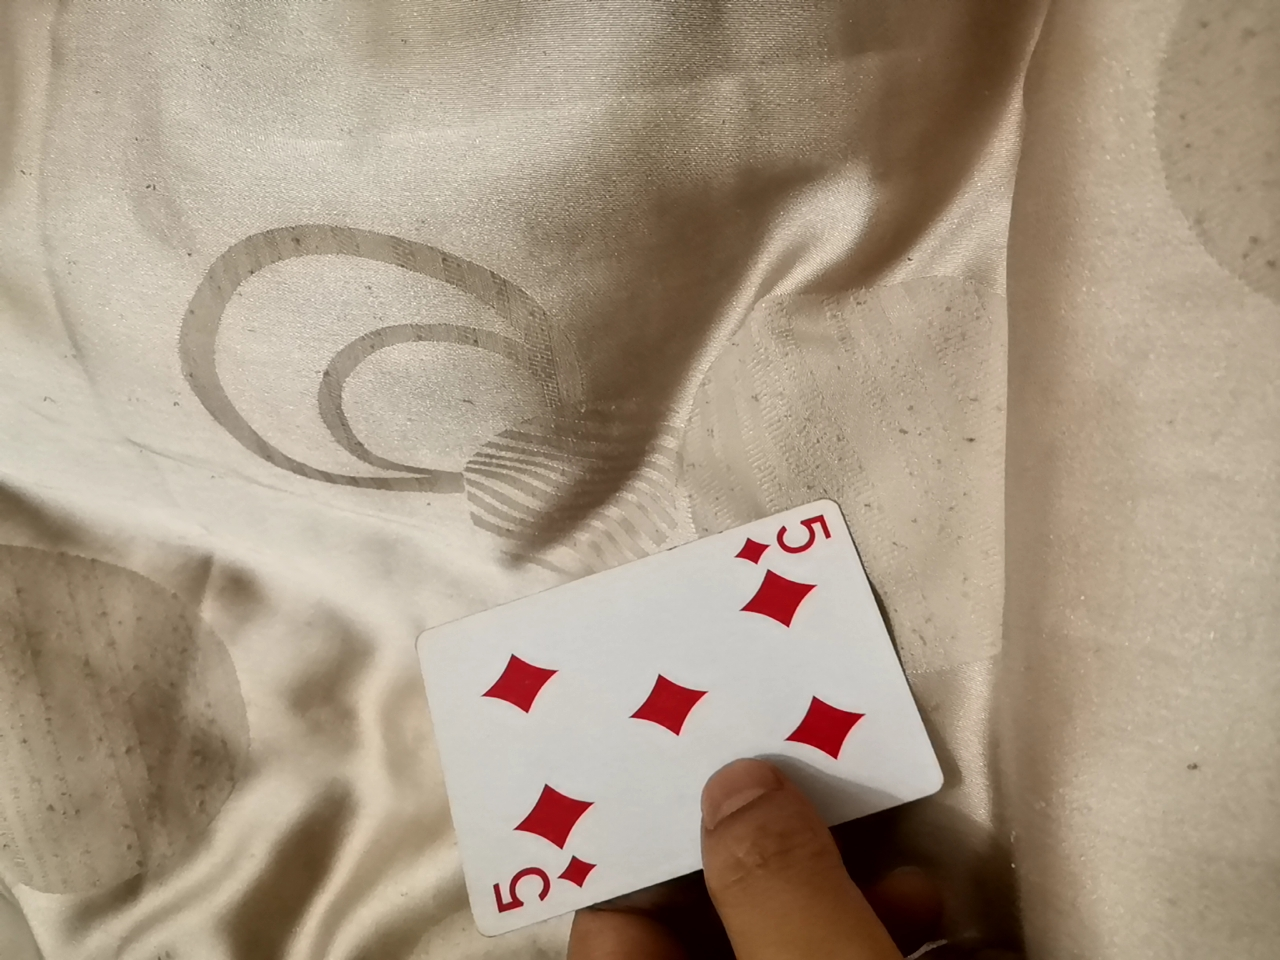fk 5: (439, 514, 964, 958)
